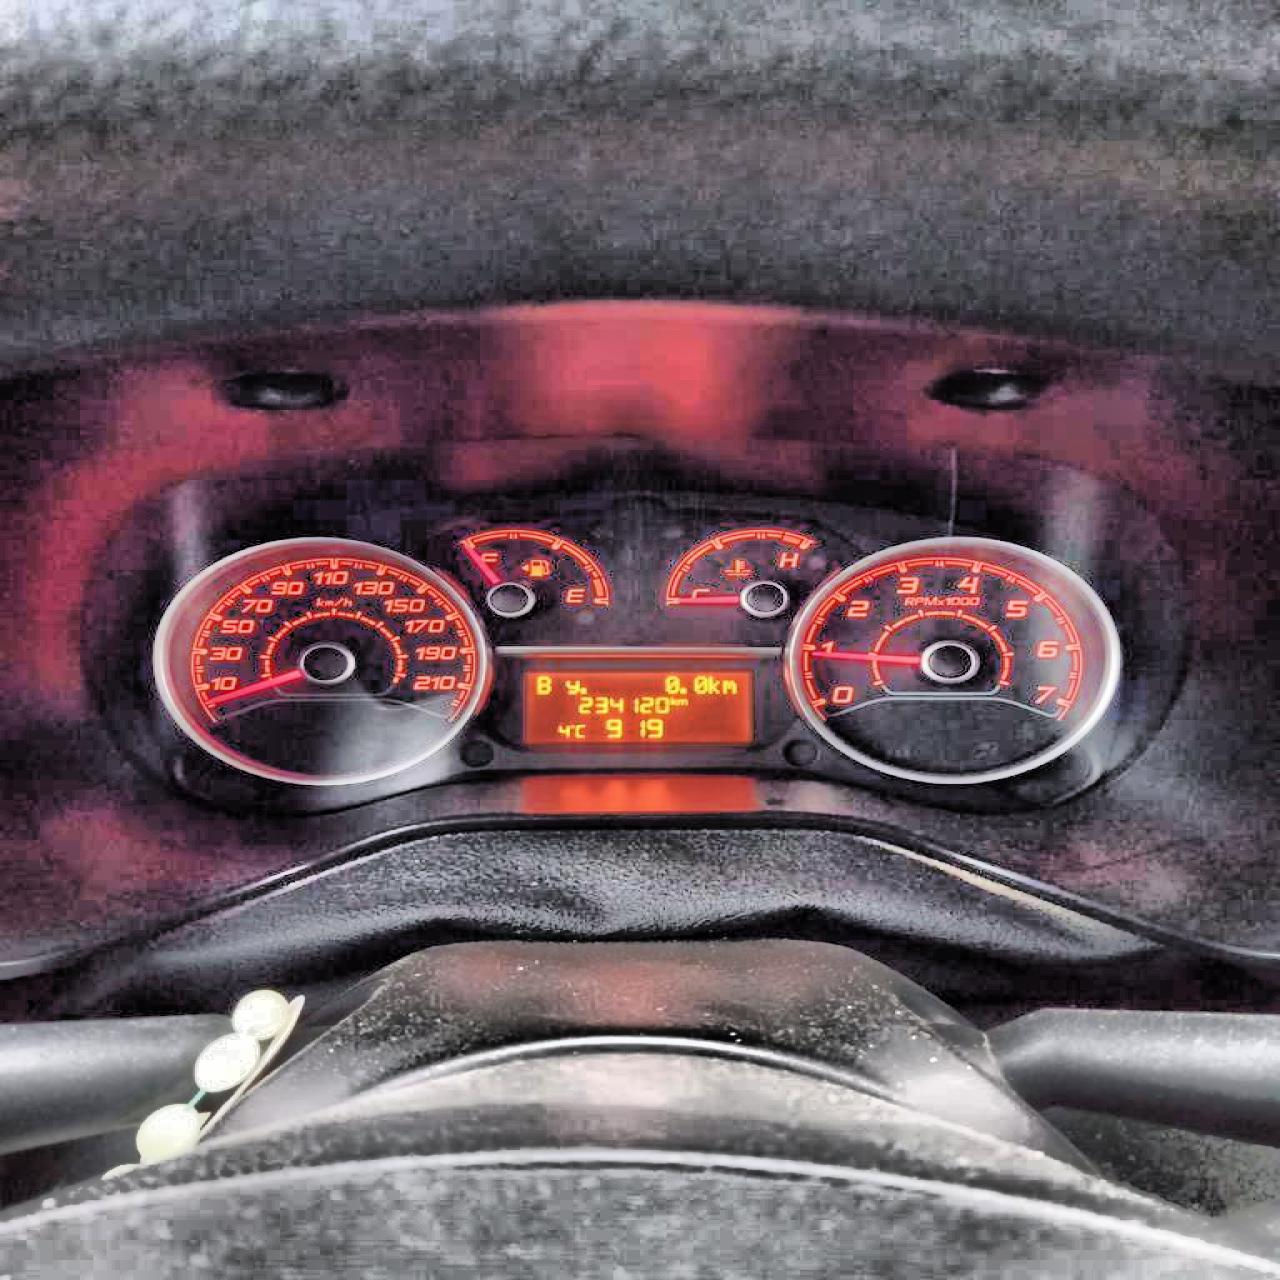-: (578, 685, 587, 694), (679, 686, 687, 694)
0: (692, 674, 707, 694), (663, 674, 679, 694), (654, 696, 668, 713)
1: (635, 716, 645, 737), (629, 695, 639, 713)
2: (576, 695, 592, 714), (639, 695, 654, 713)
3: (592, 695, 606, 714)
4: (608, 695, 624, 713), (553, 722, 568, 737)
9: (645, 716, 663, 738), (601, 717, 621, 737)
X: (533, 674, 552, 695), (707, 673, 720, 694), (561, 678, 578, 694), (720, 678, 735, 694), (573, 722, 585, 738), (676, 696, 687, 704), (668, 695, 676, 704)
odometer: (516, 662, 757, 750)
